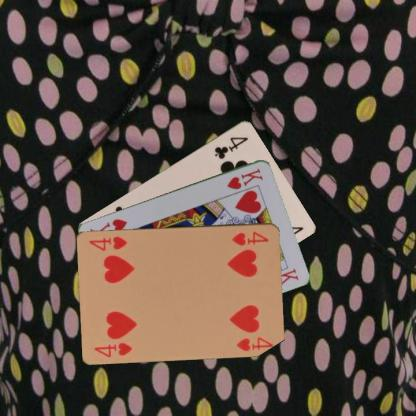4c: (212, 134, 249, 160)
4h: (229, 228, 270, 247), (92, 340, 133, 358)
Kh: (224, 165, 265, 191)
